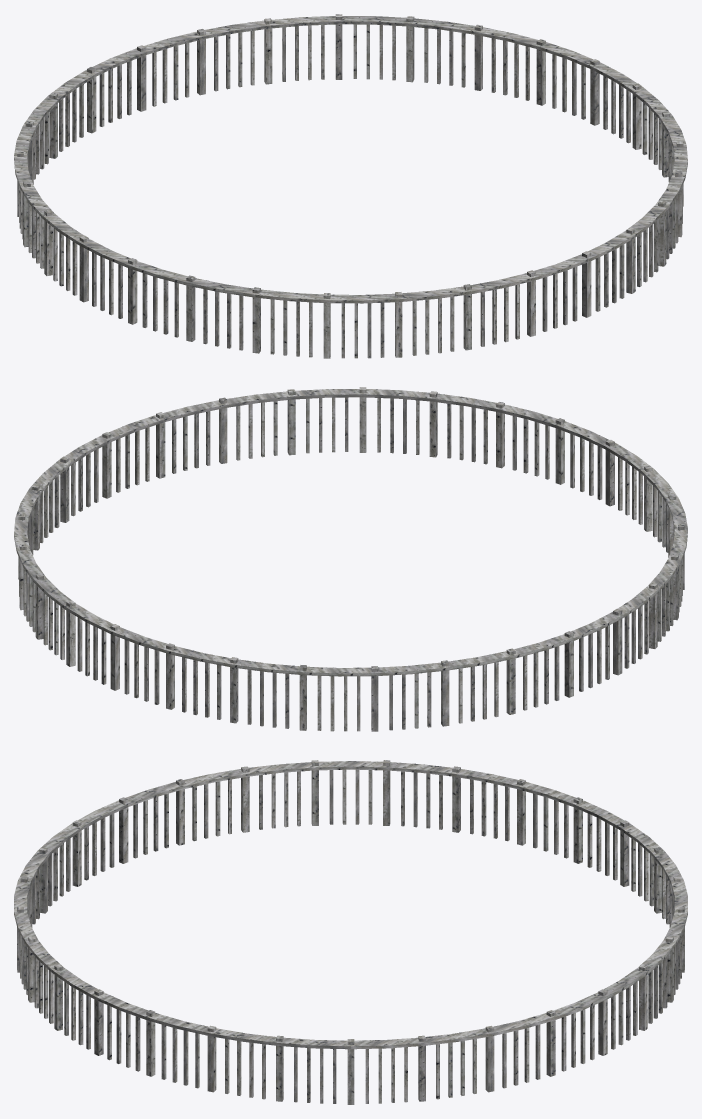
The model's file is Fence.FBX.
3 renders of one model, top to bottom at view 1: azimuth 30°, elevation 25°; view 2: azimuth 150°, elevation 25°; view 3: azimuth 270°, elevation 25°, orthographic.
Visible parts, largest first — view 1: Railing001; view 2: Railing001; view 3: Railing001.
Part boxes in pixels (<box>): Railing001: <box>14,14,687,358</box>; Railing001: <box>14,387,687,731</box>; Railing001: <box>14,760,687,1104</box>.
Size of the model in its own units: 10.2 by 1.05 by 10.18.
Materials: 1 (1 with a texture image).
